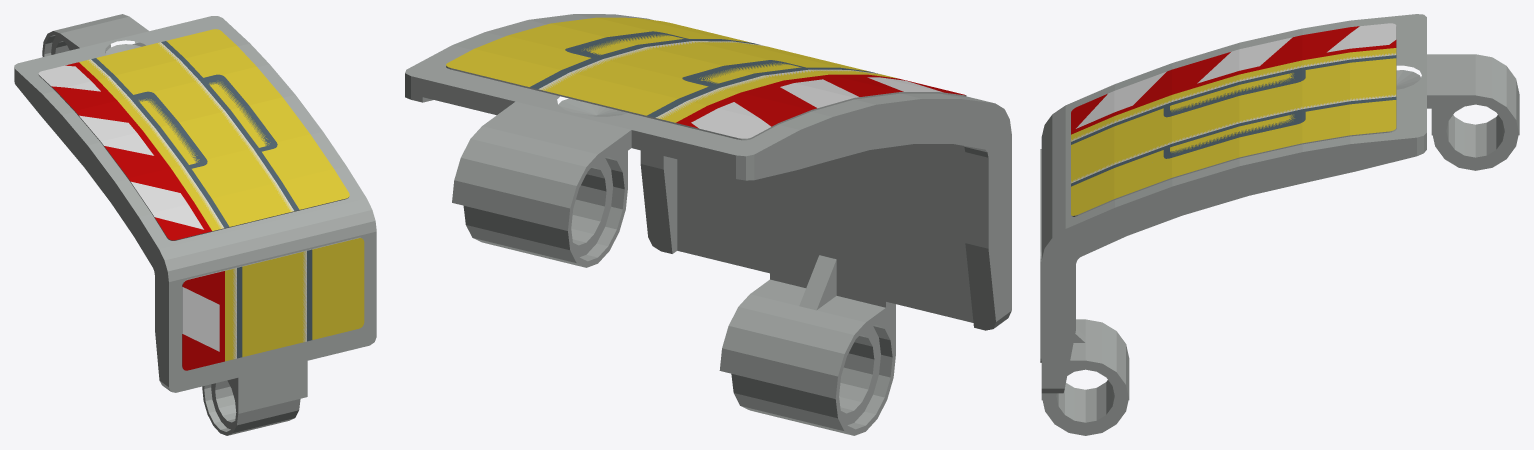
3 views of the same model, side by side, from view 1: azimuth 30°, elevation 25°; view 2: azimuth 150°, elevation 25°; view 3: azimuth 270°, elevation 25° (orthographic). The views are drawn at different scales.
Visible parts, largest first — view 1: world; view 2: world; view 3: world.
Part boxes in pixels (box(x1,y1,x2,y2)): world: box(14, 14, 376, 435); world: box(405, 14, 1011, 435); world: box(1040, 14, 1519, 435).
Bounding box in the file's own units: 0.024 × 0.0312 × 0.0393.
